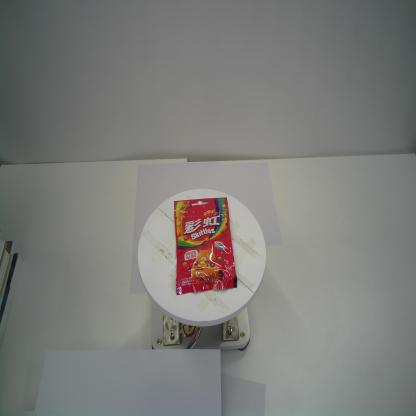Candy: (174, 197, 237, 295)
